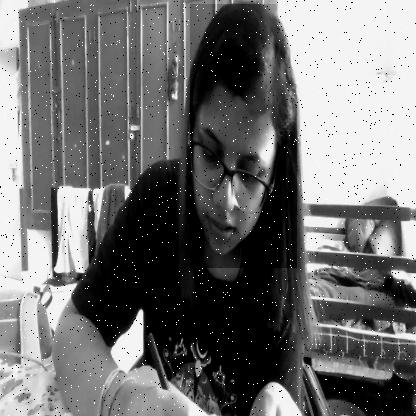Distracted: (190, 4, 297, 268)
